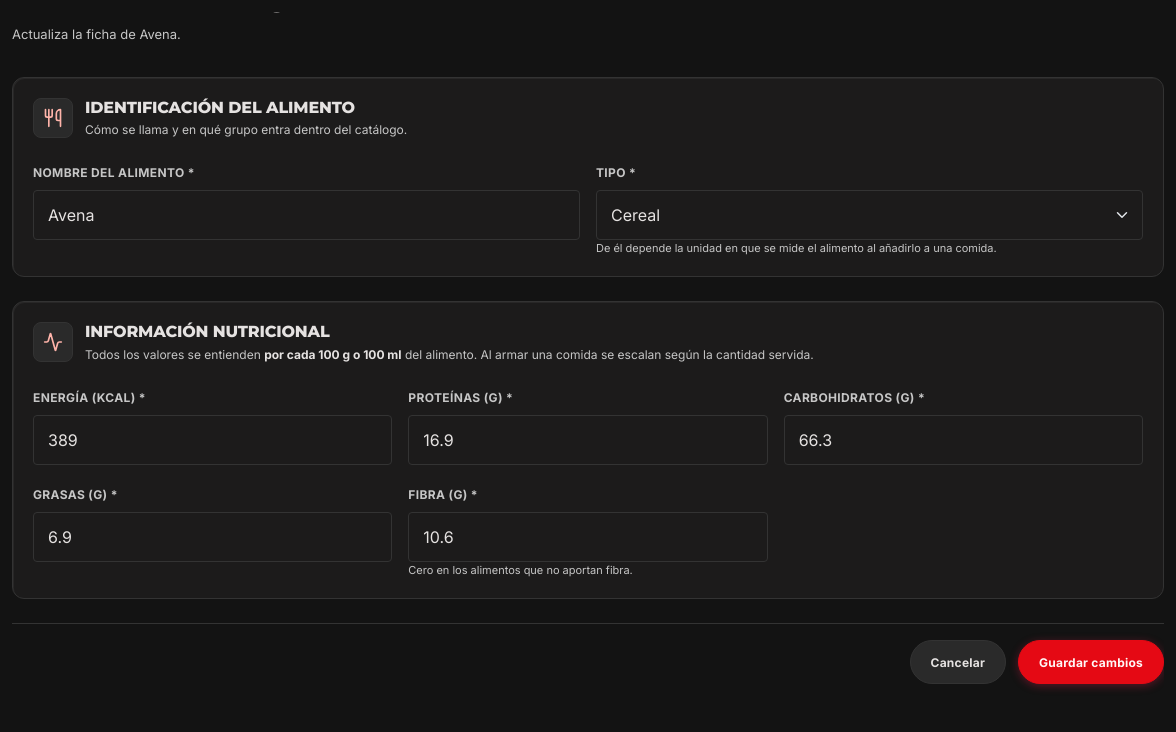
Test: AlimentoEditView › reparte por campo un 422 con errores y deja el formulario en pantalla
This screenshot has width=1176, height=732.
(page scrolled)
Replace the text in the number field with id "alimento-calorias" with "9000" at (213, 440), box 33,415 -> 392,465
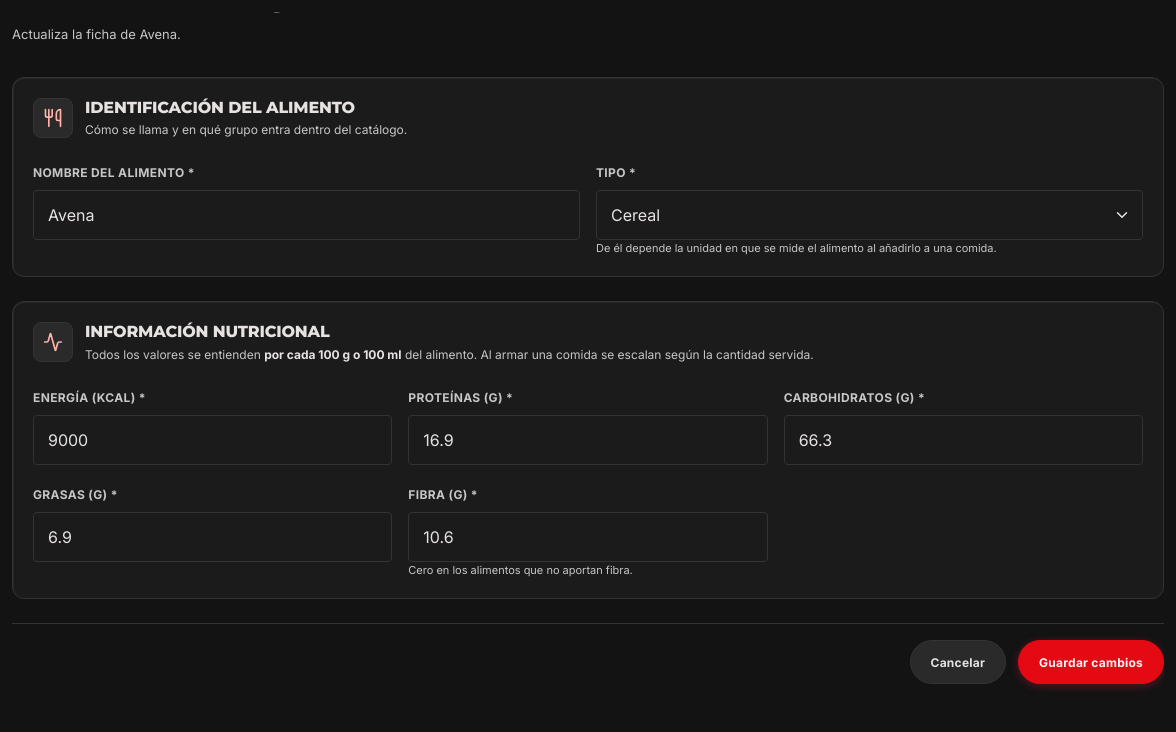
Submit the form
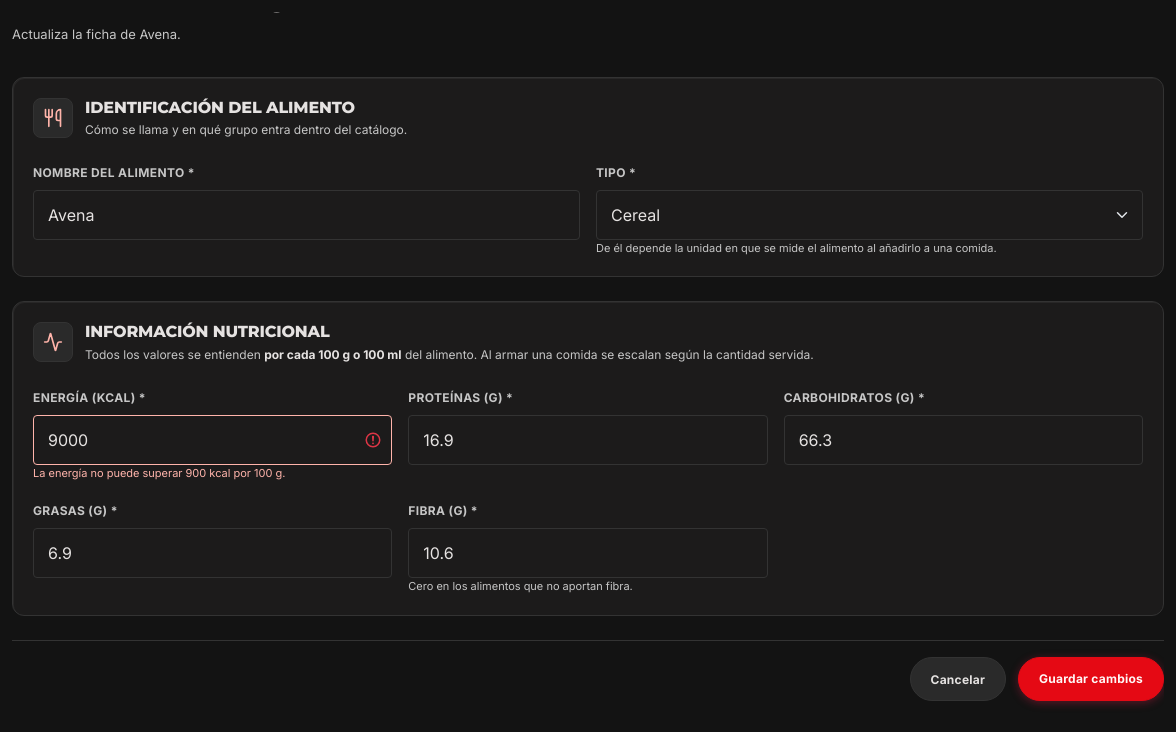
Result: the message with id "error-calorias" reads "La energía no puede superar 900 kcal por 100 g." at 33,466 -> 285,480
